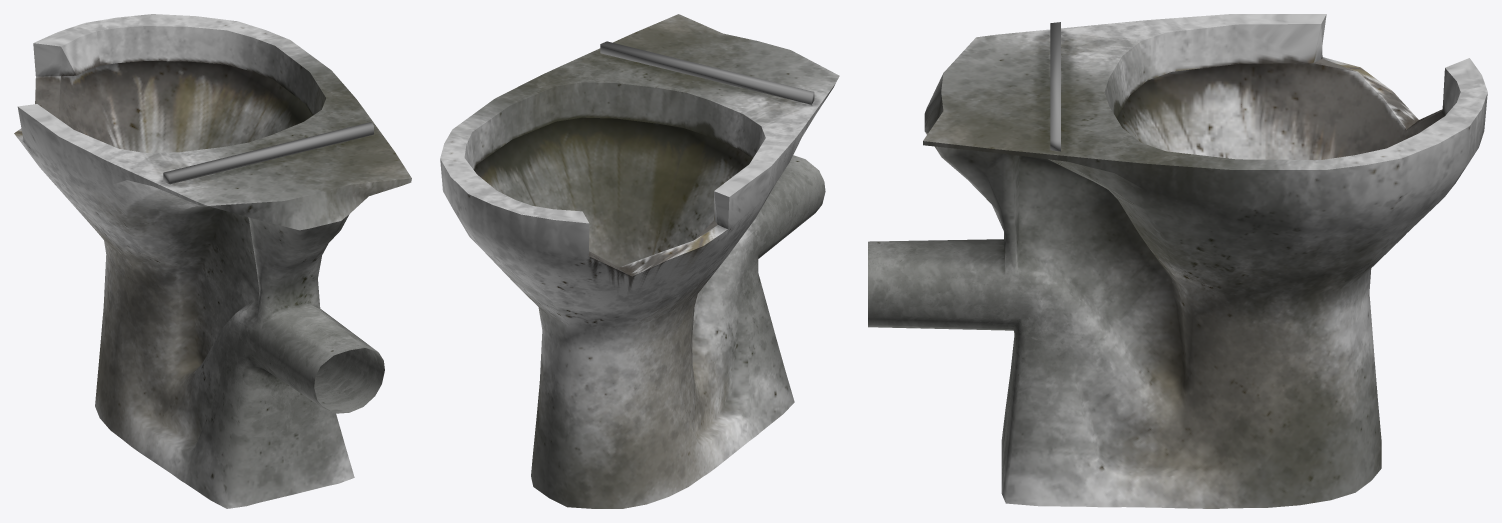
File: old_toilet.fbx
3 views of the same model, side by side, from view 1: azimuth 30°, elevation 25°; view 2: azimuth 150°, elevation 25°; view 3: azimuth 270°, elevation 25° (orthographic). The views are drawn at different scales.
Visible parts, largest first — view 1: old_toilet; view 2: old_toilet; view 3: old_toilet.
Part boxes in pixels (box(x1,y1,x2,y2)): old_toilet: box(14, 14, 411, 508); old_toilet: box(440, 14, 839, 508); old_toilet: box(868, 14, 1487, 508).
Size of the model in its own units: 1.2 by 1.39 by 2.02.
